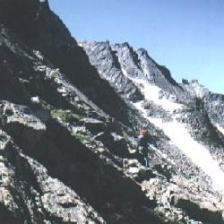neutral: (2, 5, 222, 219)
